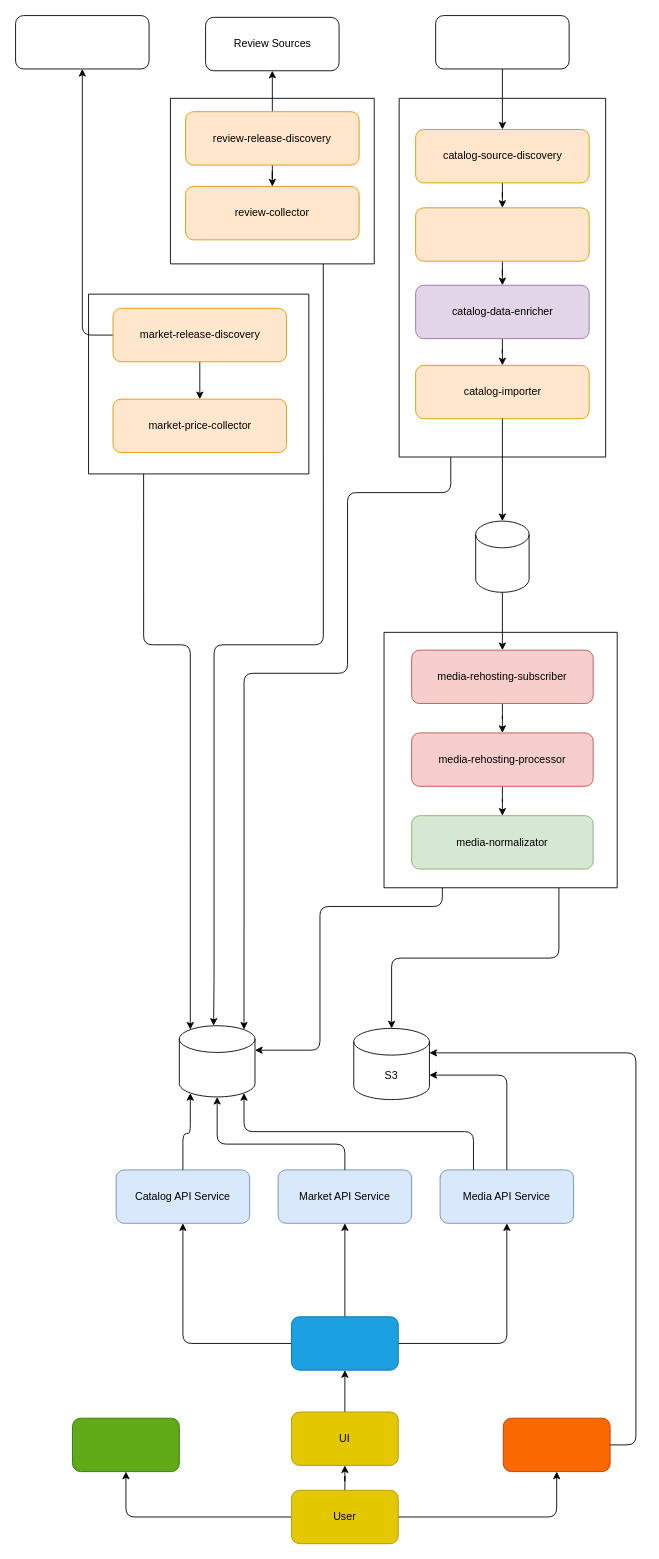
Image size: 659x1559. Some labels were removed from this diagram. Here are the shapes that lost their labels. From the top down, the centre of each, then its label:
[82,42]: Market Sources
[502,42]: Catalog Sources
[502,234]: catalog-content-collector
[502,556]: Kafka
[216,1061]: PostgreSQL
[344,1343]: Public API Service
[125,1444]: Documention
[556,1444]: Media Content
